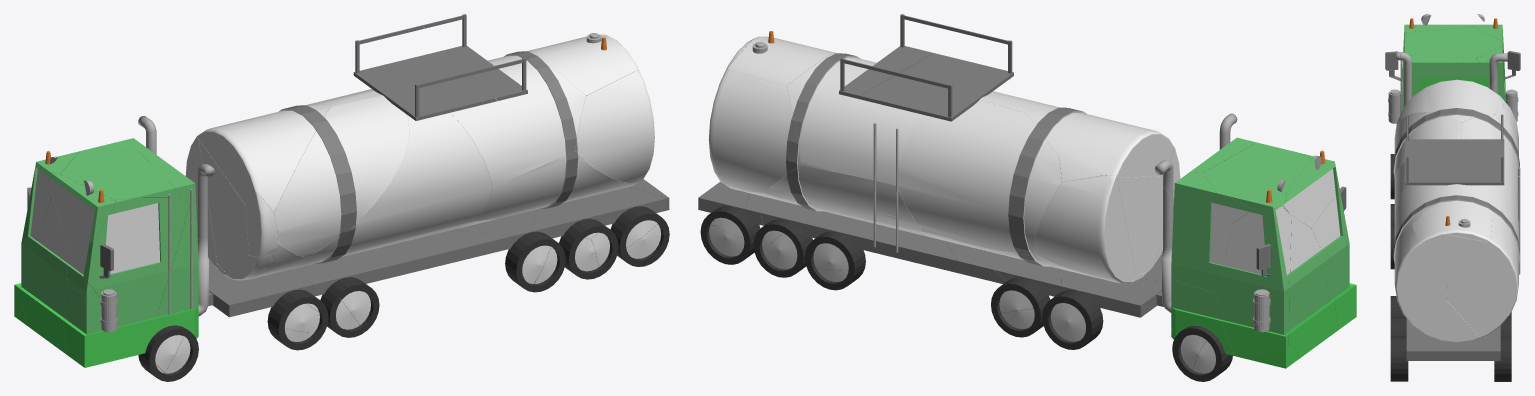
Rendered from Oil Green Shatter.fbx.
3 views of the same model, side by side, from view 1: azimuth 30°, elevation 25°; view 2: azimuth 150°, elevation 25°; view 3: azimuth 270°, elevation 25° (orthographic). The views are drawn at different scales.
Parts seen in each view (by area): view 1: Cylinder.100_cell.022, Cylinder.100_cell.030, Cylinder.100_cell.037, Truck Body.008_cell.038, Cylinder.100_cell.028, Cylinder.100_cell.014, Truck Body.008_cell.044, Cube.014_cell.005, Cylinder.100_cell.023, Truck Body.008_cell.035, Truck Body.008_cell.040, Cylinder.100_cell.029 (+30 smaller); view 2: Cylinder.100_cell.036, Cylinder.100_cell.037, Cylinder.100_cell.033, Truck Body.008_cell.051, Cylinder.100_cell.038, Cylinder.100_cell.028, Cube.014_cell.005, Truck Body.008_cell.025, Cylinder.100_cell.034, Truck Body.008_cell.046, Truck Body.008_cell.041, Cylinder.100_cell.029 (+31 smaller); view 3: Cylinder.100_cell.033, Cylinder.100_cell.014, Cylinder.100_cell.037, Cylinder.100_cell.032, Cube.014_cell.005, Cylinder.100_cell.028, Truck Body.008_cell.041, Cylinder.100_cell.022, Cylinder.100_cell.036, Truck Body.008_cell.033, Truck Body.008_cell.030, Cube.014_cell.006 (+27 smaller).
Boxes of the visible parts, box(x1,y1,x2,y2) form: Cylinder.100_cell.022: box(274, 95, 409, 257); Cylinder.100_cell.030: box(302, 113, 491, 266); Cylinder.100_cell.037: box(450, 50, 585, 187); Truck Body.008_cell.038: box(64, 197, 189, 311); Cylinder.100_cell.028: box(198, 105, 330, 212); Cylinder.100_cell.014: box(575, 70, 654, 183); Truck Body.008_cell.044: box(288, 229, 514, 296); Cube.014_cell.005: box(353, 40, 497, 120); Cylinder.100_cell.023: box(474, 150, 636, 221); Truck Body.008_cell.035: box(63, 286, 165, 367); Truck Body.008_cell.040: box(158, 270, 313, 338); Cylinder.100_cell.029: box(198, 139, 306, 280); Cylinder.100_cell.036: box(898, 100, 1061, 255); Cylinder.100_cell.037: box(786, 53, 924, 184); Cylinder.100_cell.033: box(708, 69, 800, 192); Truck Body.008_cell.051: box(1216, 206, 1291, 355); Cylinder.100_cell.038: box(1033, 175, 1136, 283); Cylinder.100_cell.028: box(1026, 109, 1174, 177); Cube.014_cell.005: box(857, 40, 1013, 121); Truck Body.008_cell.025: box(1171, 172, 1233, 293); Cylinder.100_cell.034: box(765, 165, 921, 231); Truck Body.008_cell.046: box(761, 206, 957, 270); Truck Body.008_cell.041: box(1202, 142, 1311, 222); Cylinder.100_cell.029: box(1059, 157, 1162, 275); Cylinder.100_cell.033: box(1447, 218, 1519, 337); Cylinder.100_cell.014: box(1394, 226, 1447, 331); Cylinder.100_cell.037: box(1394, 177, 1518, 249); Cylinder.100_cell.032: box(1412, 202, 1492, 276); Cube.014_cell.005: box(1405, 114, 1504, 174); Cylinder.100_cell.028: box(1397, 79, 1499, 124); Truck Body.008_cell.041: box(1404, 27, 1502, 87); Cylinder.100_cell.022: box(1393, 112, 1462, 177); Cylinder.100_cell.036: box(1460, 114, 1519, 209); Truck Body.008_cell.033: box(1406, 333, 1500, 360); Truck Body.008_cell.030: box(1409, 55, 1479, 86); Cube.014_cell.006: box(1405, 136, 1504, 185).
Bounding box in the file's own units: 899 × 330 × 224.
